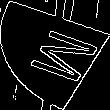M_SE: (12, 24, 98, 86)
